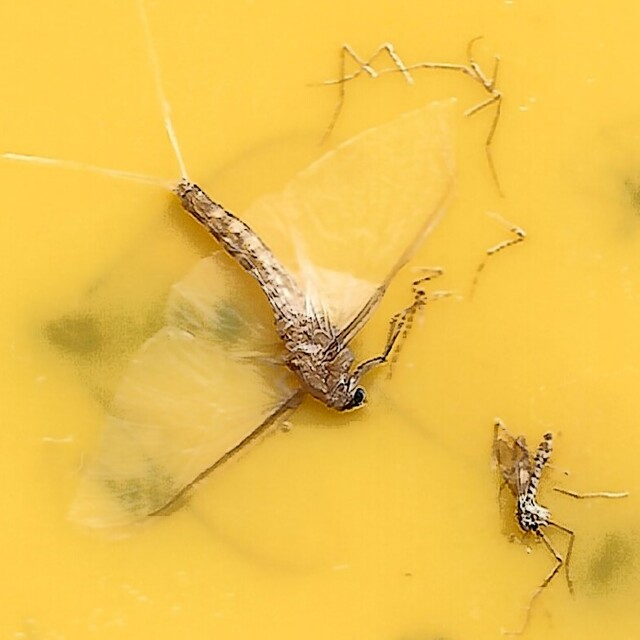Ephemeroptera: (81, 95, 466, 527)
Nematocera: (494, 417, 559, 545)
